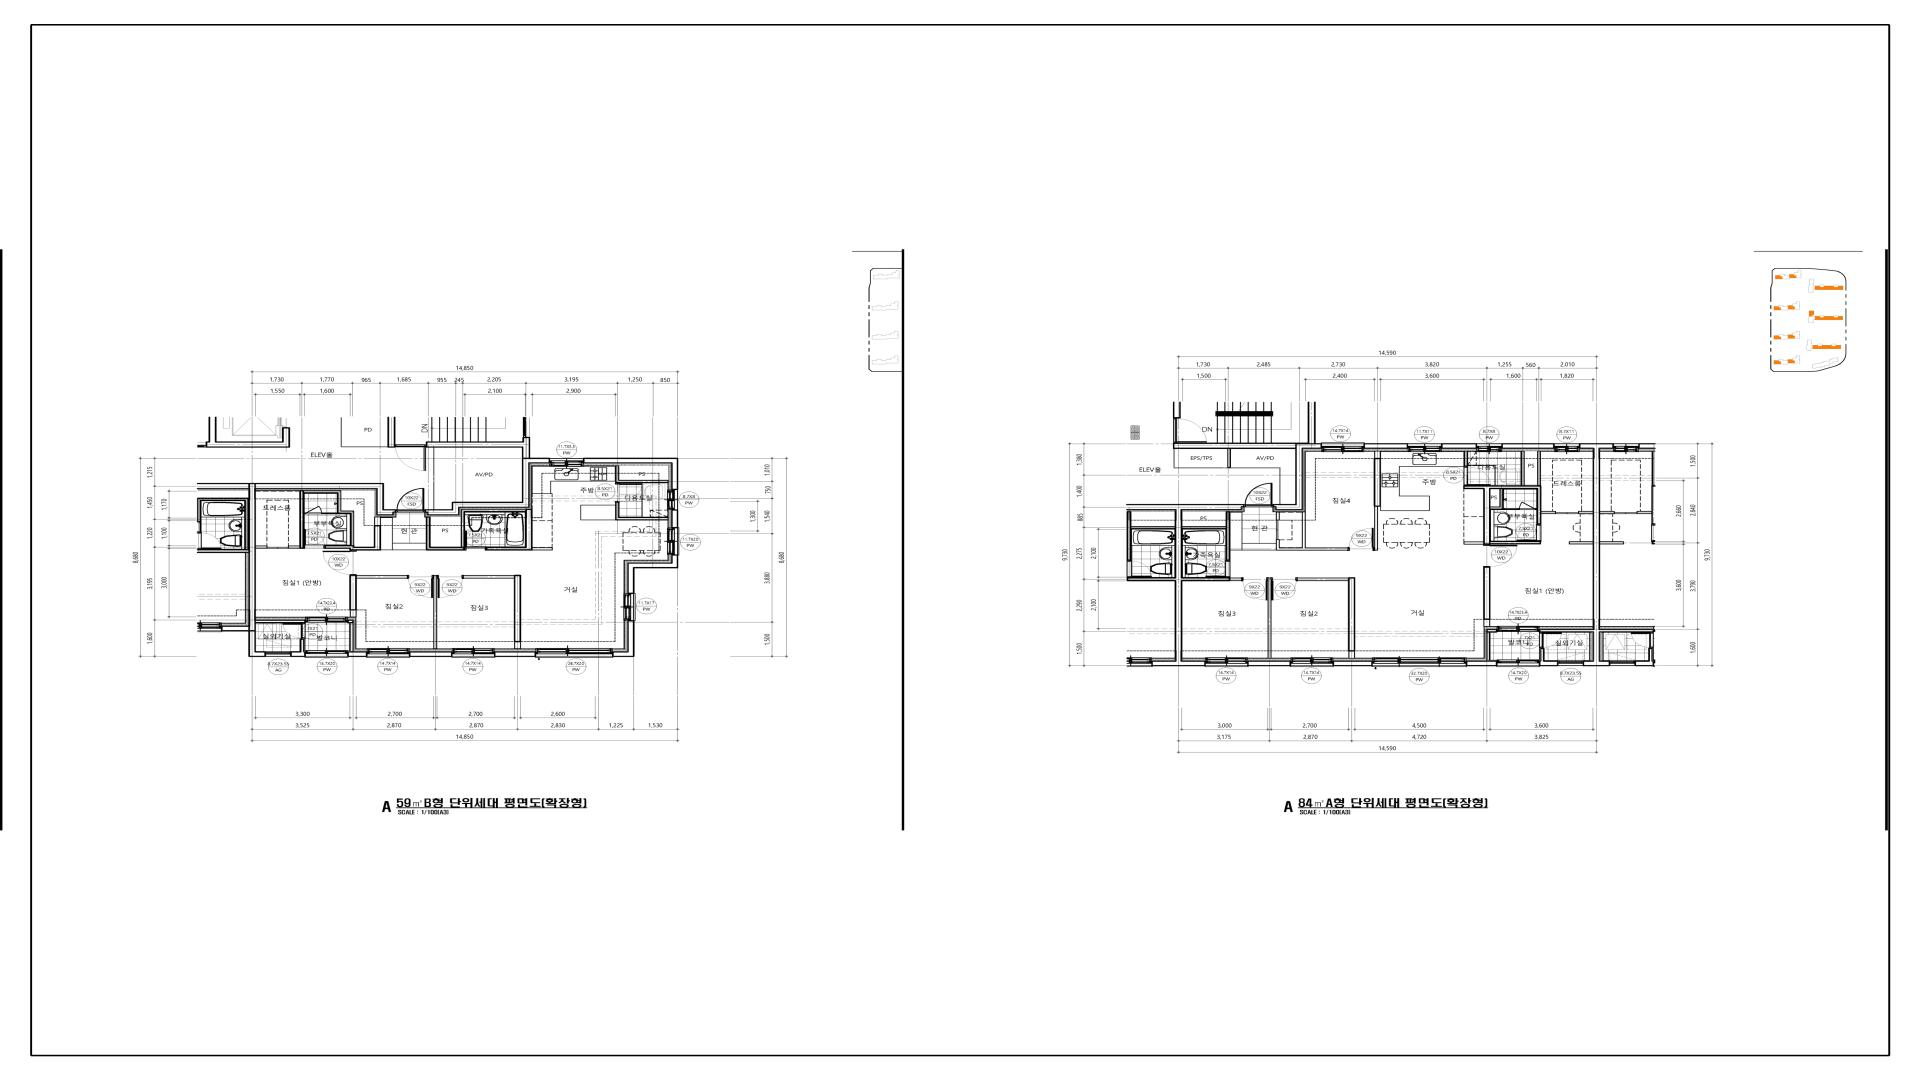door: (396, 444, 426, 472), (1174, 418, 1207, 443), (323, 551, 357, 575), (397, 488, 425, 513), (1245, 483, 1273, 508), (1487, 545, 1518, 567), (436, 575, 464, 599), (407, 575, 434, 599), (1241, 578, 1267, 601), (1271, 578, 1298, 600), (1350, 527, 1374, 551), (615, 483, 642, 502), (1205, 559, 1230, 578), (465, 530, 487, 551), (305, 529, 326, 549), (1516, 525, 1542, 541), (1539, 633, 1563, 649), (305, 505, 338, 514), (1519, 501, 1536, 510), (1556, 513, 1578, 514), (268, 547, 289, 549), (1276, 521, 1278, 539)
wall: (248, 483, 397, 657), (1172, 402, 1321, 510), (1539, 443, 1601, 666), (1175, 504, 1245, 666), (425, 436, 550, 516), (1464, 451, 1556, 545), (289, 491, 381, 551), (1298, 578, 1356, 658), (463, 575, 521, 649), (426, 509, 525, 550), (583, 458, 678, 491), (1276, 513, 1350, 551), (206, 417, 290, 447), (349, 575, 407, 617), (628, 555, 678, 593), (340, 418, 386, 447), (1466, 629, 1497, 666), (615, 502, 669, 521), (616, 465, 669, 483), (612, 621, 634, 657), (1374, 451, 1381, 551), (1490, 489, 1519, 510), (1484, 567, 1490, 626), (1502, 443, 1555, 450), (1539, 649, 1559, 666), (525, 509, 533, 551), (1267, 578, 1271, 658), (1364, 443, 1408, 450), (434, 575, 438, 649), (290, 640, 306, 657), (388, 417, 396, 447), (1441, 443, 1477, 450), (409, 651, 452, 657), (495, 651, 537, 657), (1249, 661, 1290, 666), (357, 575, 407, 579), (1333, 662, 1371, 666), (487, 547, 525, 551), (671, 509, 678, 529), (1172, 402, 1180, 418), (347, 651, 368, 657), (1464, 451, 1468, 467), (1276, 512, 1279, 521), (348, 620, 353, 624)
window: (1371, 658, 1466, 667), (537, 649, 612, 658), (1290, 658, 1333, 667), (1205, 658, 1249, 667), (452, 649, 495, 658), (1321, 443, 1364, 452), (368, 649, 409, 658), (1497, 659, 1540, 667), (624, 593, 636, 621), (667, 529, 679, 555), (306, 651, 348, 658), (550, 459, 583, 467), (1408, 444, 1441, 452), (1477, 443, 1502, 452), (306, 617, 348, 622), (1497, 626, 1539, 632), (667, 491, 678, 510), (1555, 444, 1578, 452), (1557, 661, 1582, 666), (266, 651, 290, 657)
